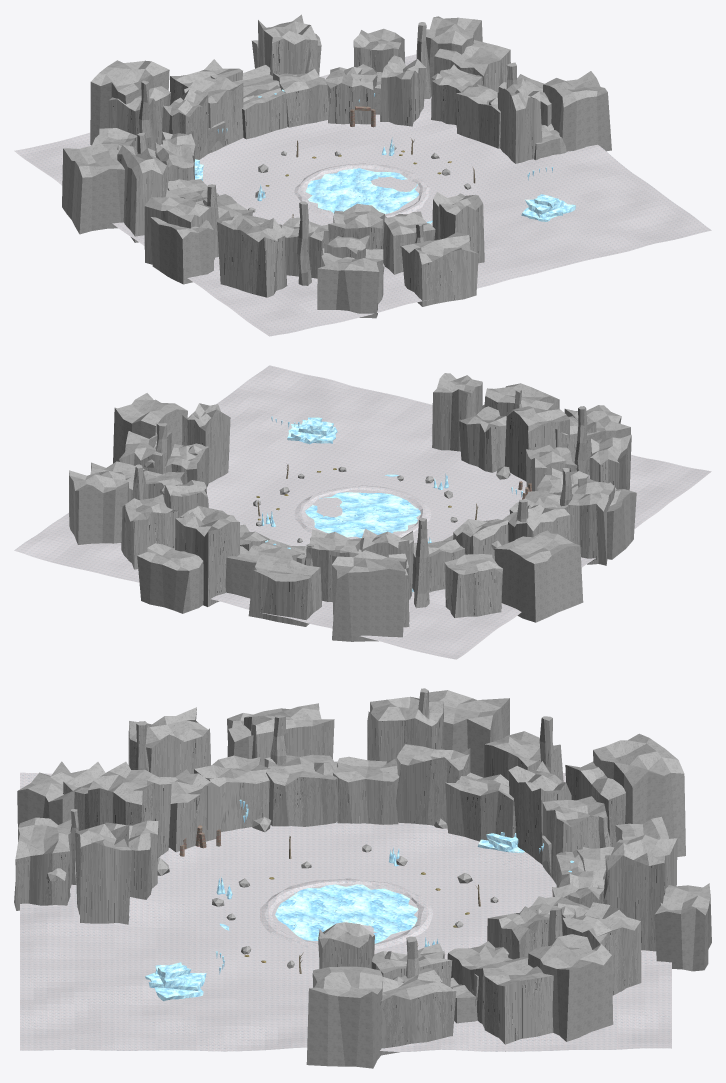
File: frost_biome.glb
The picture shows the model from 3 angles, top to bottom: view 1: azimuth 30°, elevation 25°; view 2: azimuth 150°, elevation 25°; view 3: azimuth 270°, elevation 25°; orthographic projection. The views are drawn at different scales.
Parts seen in each view (by area): view 1: snow_ground, cliff_204, wall_cliff_21009, wall_cliff_21011, cliff_200, cliff_206, cliff_205, frozen_lake_center, cliff_203, wall_cliff_20000, wall_cliff_21007, wall_cliff_21003 (+30 smaller); view 2: snow_ground, cliff_204, cliff_203, wall_cliff_21004, cliff_201, wall_cliff_21003, cliff_202, frozen_lake_center, wall_cliff_21006, wall_cliff_20015, wall_cliff_21008, wall_cliff_20017 (+26 smaller); view 3: snow_ground, cliff_200, cliff_201, cliff_203, frozen_lake_center, wall_cliff_21001, wall_cliff_21003, wall_cliff_20017, wall_cliff_21000, wall_cliff_20015, wall_cliff_20012, wall_cliff_21011 (+32 smaller).
Boxes of the visible parts, x1=… form: snow_ground: x1=14, y1=54, x2=711, y2=336; cliff_204: x1=62, y1=143, x2=124, y2=234; wall_cliff_21009: x1=217, y1=214, x2=287, y2=297; wall_cliff_21011: x1=401, y1=232, x2=478, y2=306; cliff_200: x1=543, y1=71, x2=611, y2=151; cliff_206: x1=317, y1=247, x2=383, y2=318; cliff_205: x1=150, y1=217, x2=213, y2=284; frozen_lake_center: x1=305, y1=168, x2=419, y2=213; cliff_203: x1=90, y1=60, x2=169, y2=145; wall_cliff_20000: x1=497, y1=78, x2=542, y2=163; wall_cliff_21007: x1=117, y1=145, x2=168, y2=242; wall_cliff_21003: x1=258, y1=14, x2=317, y2=76; snow_ground: x1=14, y1=365, x2=711, y2=659; cliff_204: x1=494, y1=530, x2=583, y2=622; cliff_203: x1=331, y1=550, x2=406, y2=641; wall_cliff_21004: x1=248, y1=554, x2=321, y2=626; cliff_201: x1=69, y1=470, x2=128, y2=544; wall_cliff_21003: x1=175, y1=505, x2=239, y2=606; cliff_202: x1=137, y1=543, x2=203, y2=613; frozen_lake_center: x1=305, y1=492, x2=420, y2=537; wall_cliff_21006: x1=444, y1=554, x2=503, y2=617; wall_cliff_20015: x1=504, y1=400, x2=569, y2=481; wall_cliff_21008: x1=568, y1=478, x2=614, y2=565; wall_cliff_20017: x1=432, y1=373, x2=482, y2=451; snow_ground: x1=20, y1=772, x2=671, y2=1052; cliff_200: x1=306, y1=966, x2=382, y2=1068; cliff_201: x1=528, y1=934, x2=613, y2=1041; cliff_203: x1=593, y1=733, x2=685, y2=856; frozen_lake_center: x1=275, y1=884, x2=418, y2=943; wall_cliff_21001: x1=470, y1=956, x2=553, y2=1051; wall_cliff_21003: x1=605, y1=835, x2=677, y2=951; wall_cliff_20017: x1=75, y1=824, x2=131, y2=924; wall_cliff_21000: x1=380, y1=967, x2=456, y2=1055; wall_cliff_20015: x1=88, y1=761, x2=171, y2=858; wall_cliff_20012: x1=264, y1=754, x2=338, y2=826; wall_cliff_21011: x1=14, y1=817, x2=72, y2=910.
Size of the model in its own units: 122 by 21.69 by 118.
Materials: 6 (6 with a texture image).
